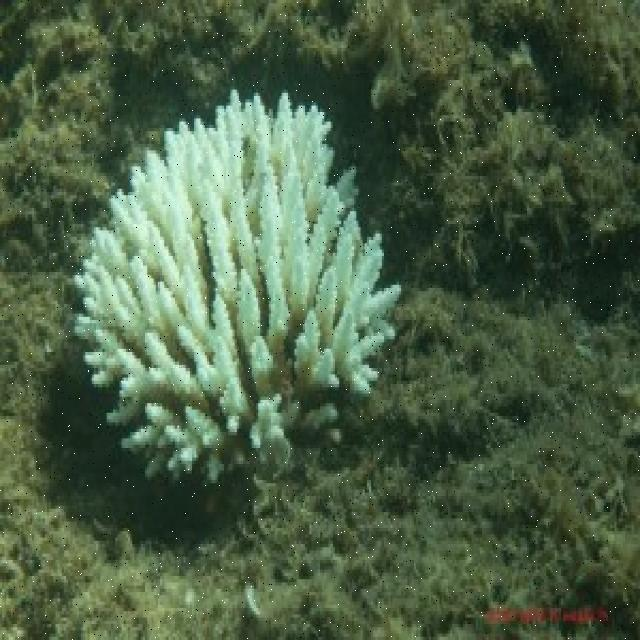Bleached: (73, 91, 404, 482)
